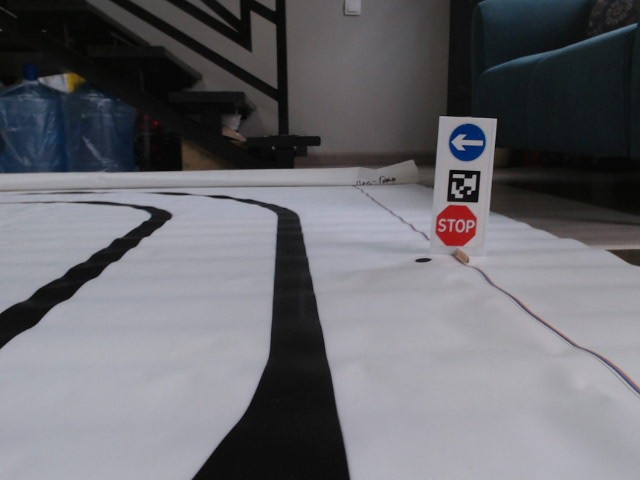Stop: (436, 203, 477, 249)
